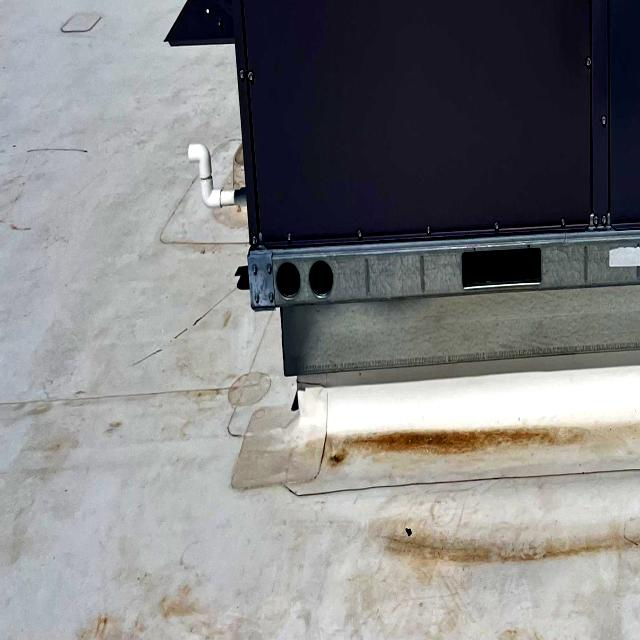RTU: (163, 0, 640, 459)
